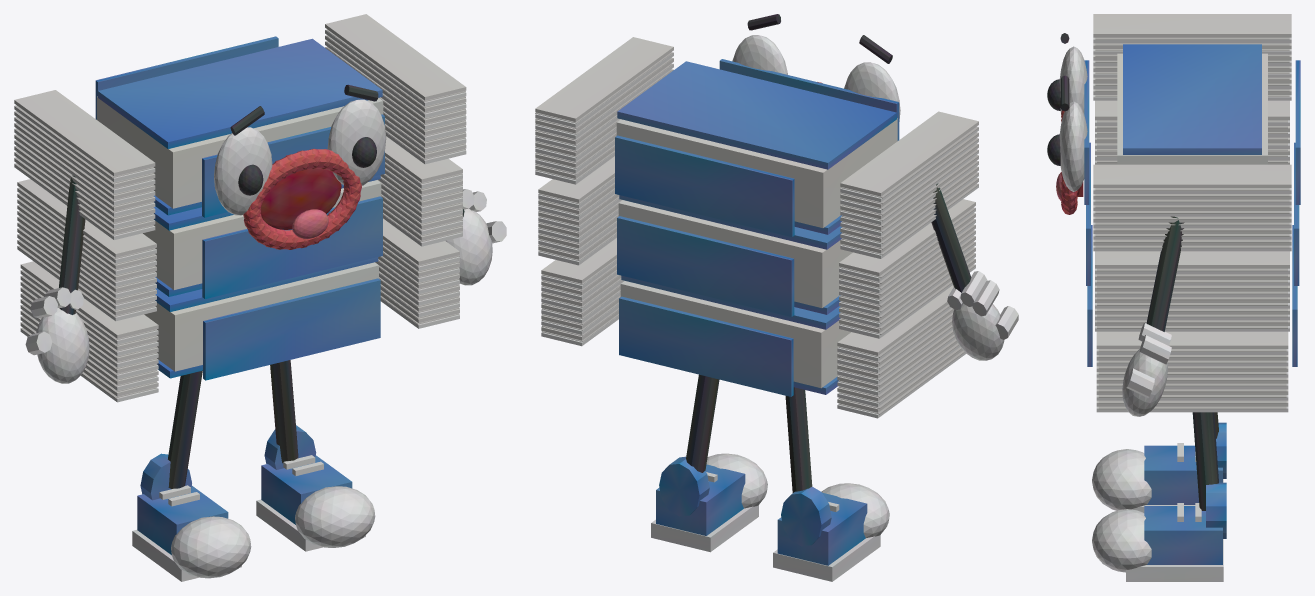
Rendered from escultura_original.glb.
3 renders of one model, left to right at view 1: azimuth 30°, elevation 25°; view 2: azimuth 150°, elevation 25°; view 3: azimuth 270°, elevation 25°, orthographic.
Parts seen in each view (by area): view 1: PagesTop, BodyTop, PagesMid, PagesBottom, BodyBottom, BodyMid, ShoeL, ShoeR, Mouth, HandL, EyeL, EyeR (+5 smaller); view 2: PagesTop, BodyTop, PagesMid, PagesBottom, BodyMid, BodyBottom, ShoeL, ShoeR, HandL, LegL, LegR, ArmL (+2 smaller); view 3: PagesTop, PagesMid, BodyTop, PagesBottom, ShoeR, ShoeL, HandR, ArmR, EyeR, LegR, BodyBottom, BodyMid (+5 smaller).
Part boxes in pixels (bbox=[...]): PagesTop: bbox=[14, 14, 466, 239]; BodyTop: bbox=[95, 36, 384, 217]; PagesMid: bbox=[17, 136, 462, 321]; PagesBottom: bbox=[20, 218, 459, 402]; BodyBottom: bbox=[155, 257, 380, 380]; BodyMid: bbox=[153, 175, 382, 298]; ShoeL: bbox=[132, 453, 251, 581]; ShoeR: bbox=[256, 425, 375, 551]; Mouth: bbox=[243, 148, 361, 249]; HandL: bbox=[25, 287, 89, 383]; EyeL: bbox=[214, 127, 272, 215]; EyeR: bbox=[327, 99, 386, 185]; PagesTop: bbox=[535, 37, 978, 258]; BodyTop: bbox=[615, 59, 899, 236]; PagesMid: bbox=[538, 156, 975, 338]; PagesBottom: bbox=[541, 238, 966, 418]; BodyMid: bbox=[617, 195, 841, 316]; BodyBottom: bbox=[619, 275, 840, 396]; ShoeL: bbox=[773, 483, 889, 581]; ShoeR: bbox=[651, 453, 767, 552]; HandL: bbox=[947, 271, 1018, 360]; LegL: bbox=[785, 387, 812, 492]; LegR: bbox=[686, 374, 719, 472]; ArmL: bbox=[931, 183, 971, 292]; PagesTop: bbox=[1093, 14, 1291, 251]; PagesMid: bbox=[1095, 100, 1289, 331]; BodyTop: bbox=[1084, 44, 1300, 204]; PagesBottom: bbox=[1096, 331, 1288, 412]; ShoeR: bbox=[1092, 482, 1226, 581]; ShoeL: bbox=[1092, 422, 1226, 512]; HandR: bbox=[1122, 322, 1171, 416]; ArmR: bbox=[1146, 216, 1184, 331]; EyeR: bbox=[1059, 101, 1087, 191]; LegR: bbox=[1192, 412, 1218, 510]; BodyBottom: bbox=[1087, 225, 1297, 366]; BodyMid: bbox=[1086, 142, 1299, 285].
Size of the model in its own units: 1.82 by 1.8 by 0.8564.
